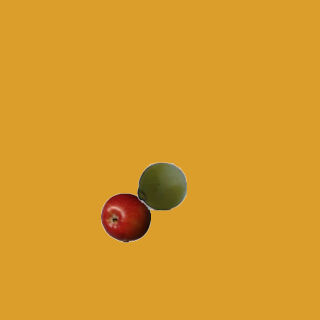Apple Braeburn: (100, 192, 150, 242)
Grape White 4: (136, 160, 186, 210)
